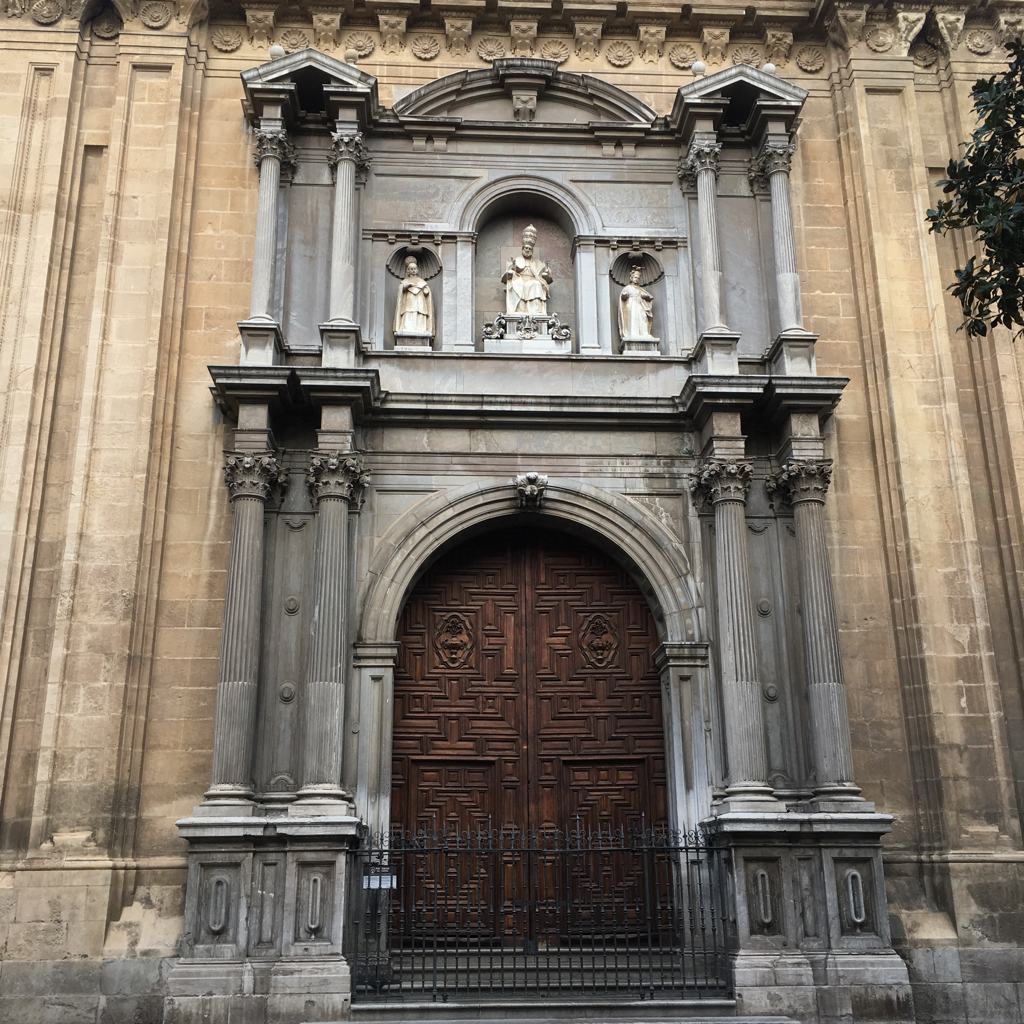arco-medio-punto: (380, 498, 686, 689), (464, 188, 588, 253)
fronton-curvo: (392, 54, 656, 141)
fronton-partido: (240, 47, 385, 109), (675, 62, 812, 111)
serliana: (359, 177, 692, 370)
